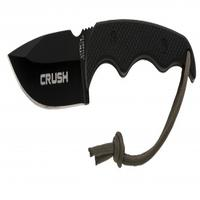knife: (7, 16, 190, 110)
